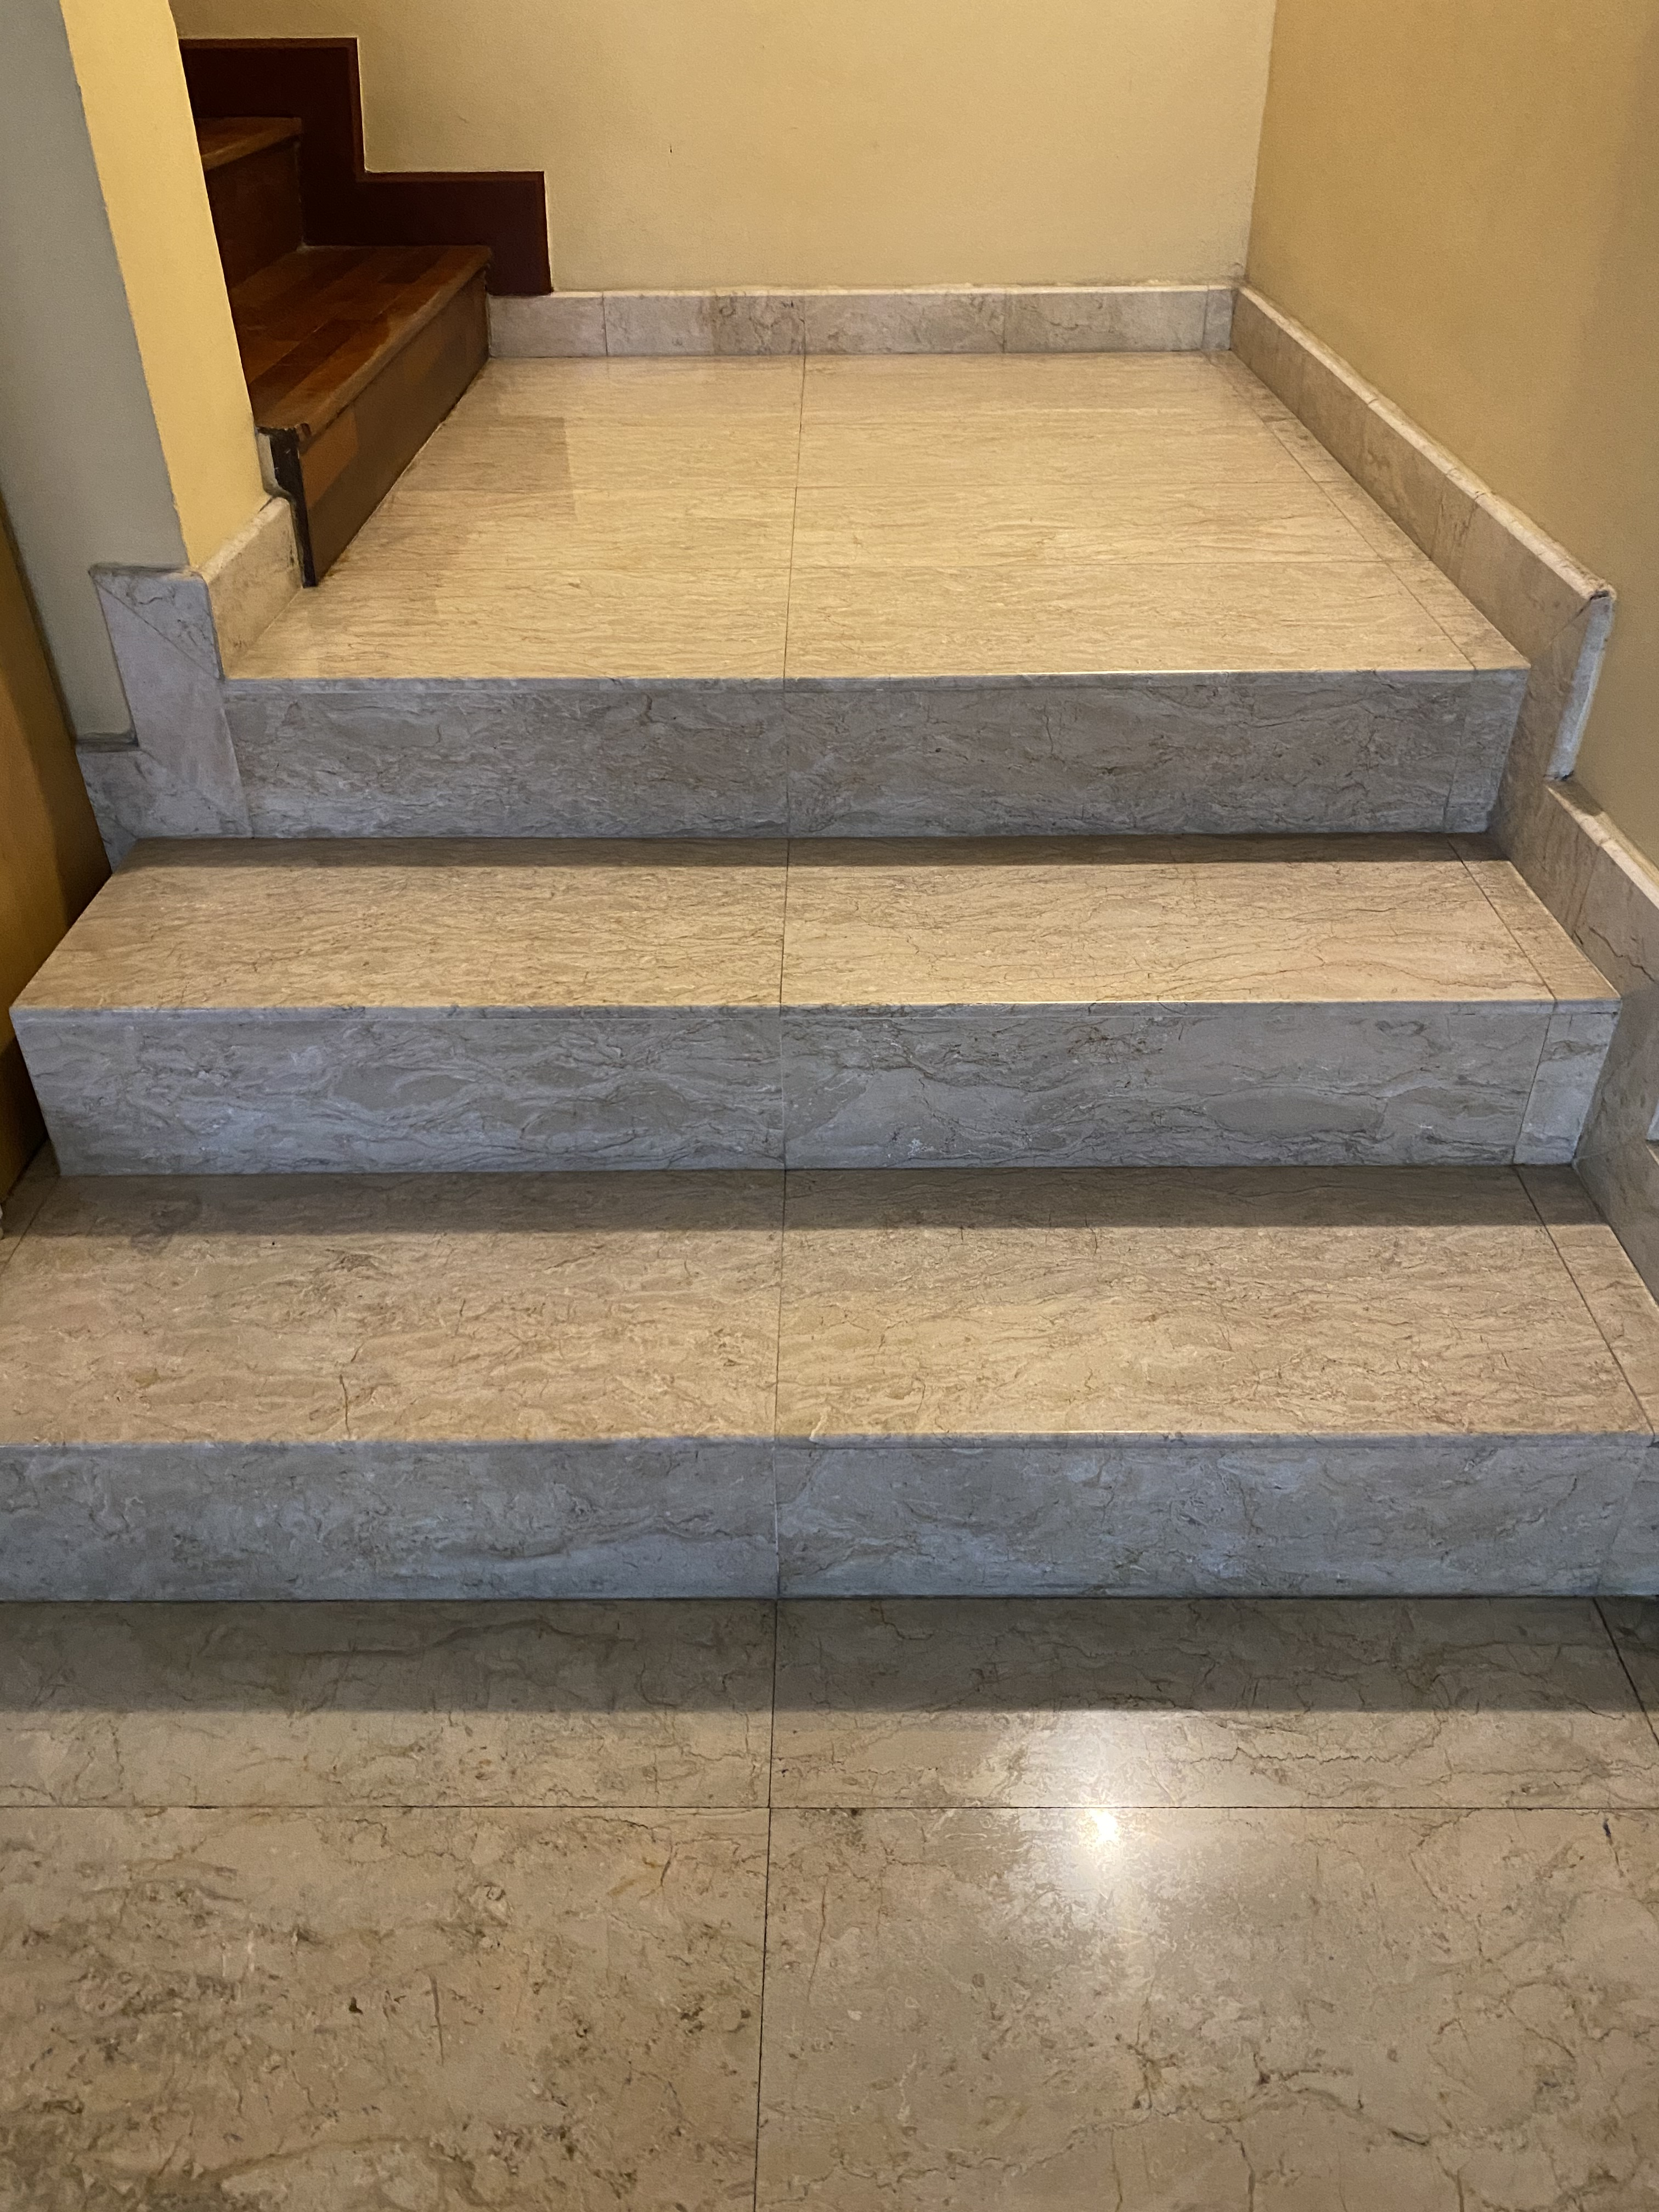upstairs: (303, 585, 1499, 1754)
